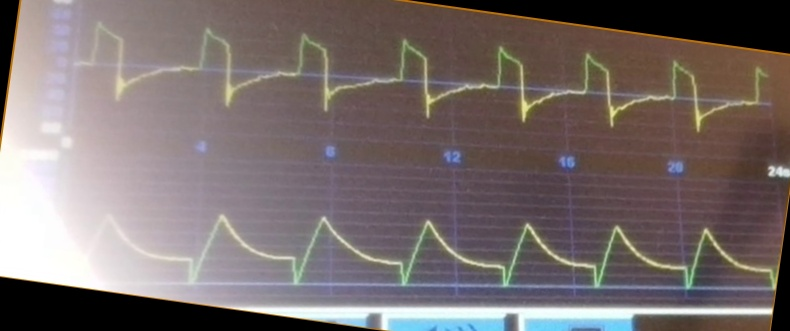Flow: (80, 24, 722, 140)
Leakage Volume: (94, 212, 775, 295)
